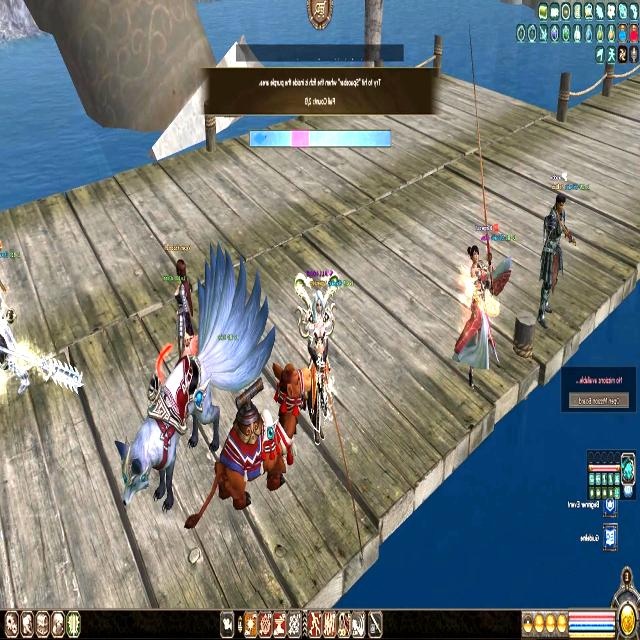fishes: (254, 131, 266, 145)
